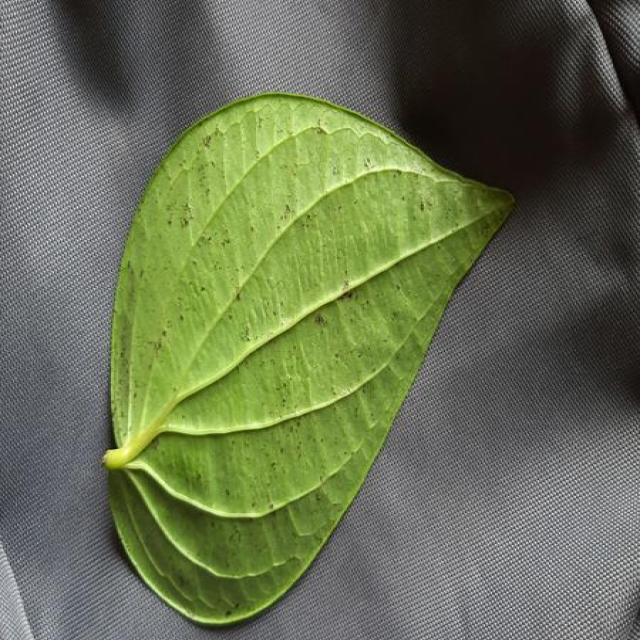betel: (103, 92, 513, 624)
